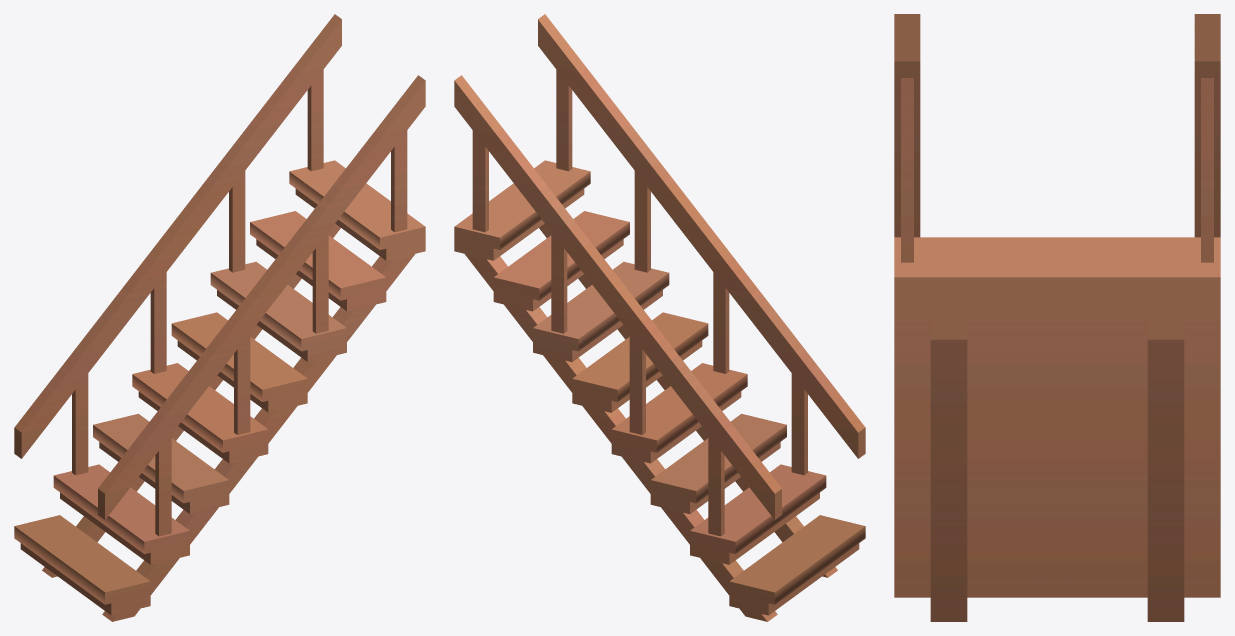
The model's file is stairs-wood-handrail.glb.
3 renders of one model, left to right at view 1: azimuth 30°, elevation 25°; view 2: azimuth 150°, elevation 25°; view 3: azimuth 270°, elevation 25°, orthographic. The views are drawn at different scales.
Visible parts, largest first — view 1: stairs-wood-handrail; view 2: stairs-wood-handrail; view 3: stairs-wood-handrail.
Boxes of the visible parts, x1,y1,x2,y2 form: stairs-wood-handrail: (14, 14, 425, 621); stairs-wood-handrail: (454, 14, 865, 621); stairs-wood-handrail: (894, 14, 1220, 621).
Bounding box in the file's own units: 1.02 × 1.45 × 0.5.
Materials: 1 (1 with a texture image).
